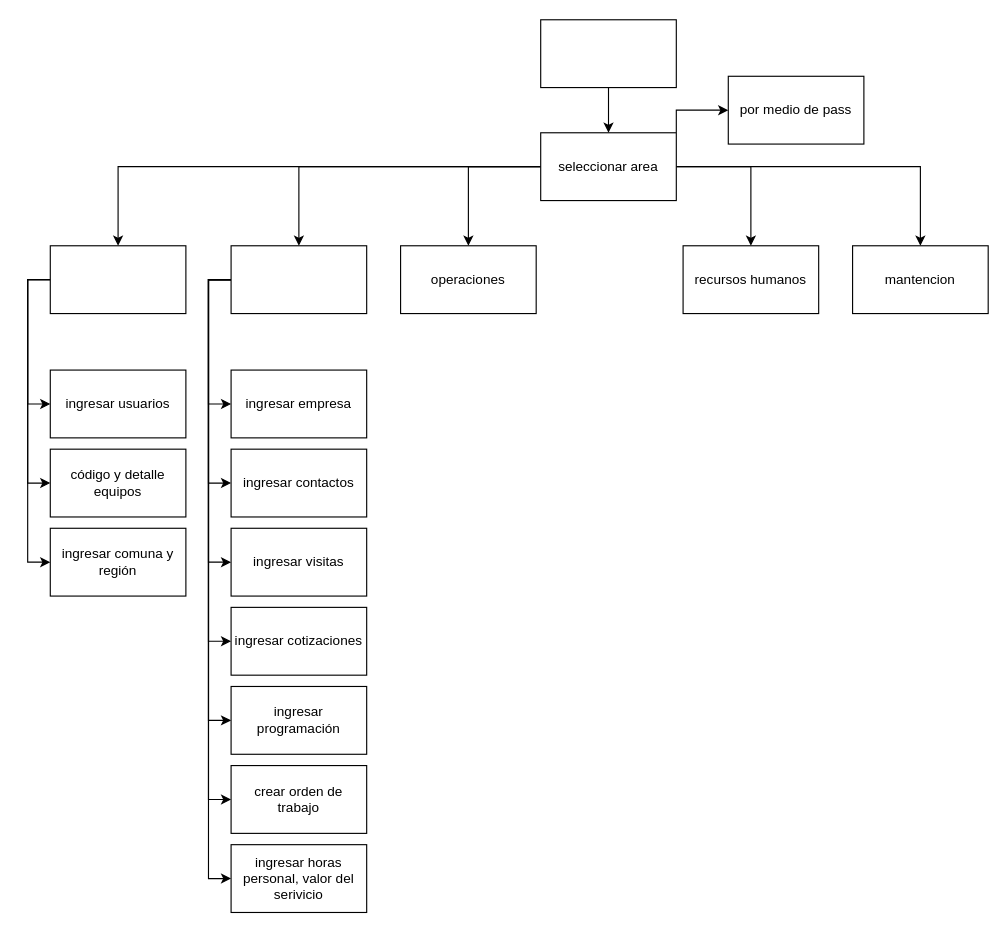
Some shapes in this 1008 by 932 pixel diagram are drawn without their labels. Each missing label, with the box of its shape:
administrador: (49, 245, 186, 314)
comercial: (230, 245, 367, 314)
ingresar a sistema: (540, 19, 676, 88)
